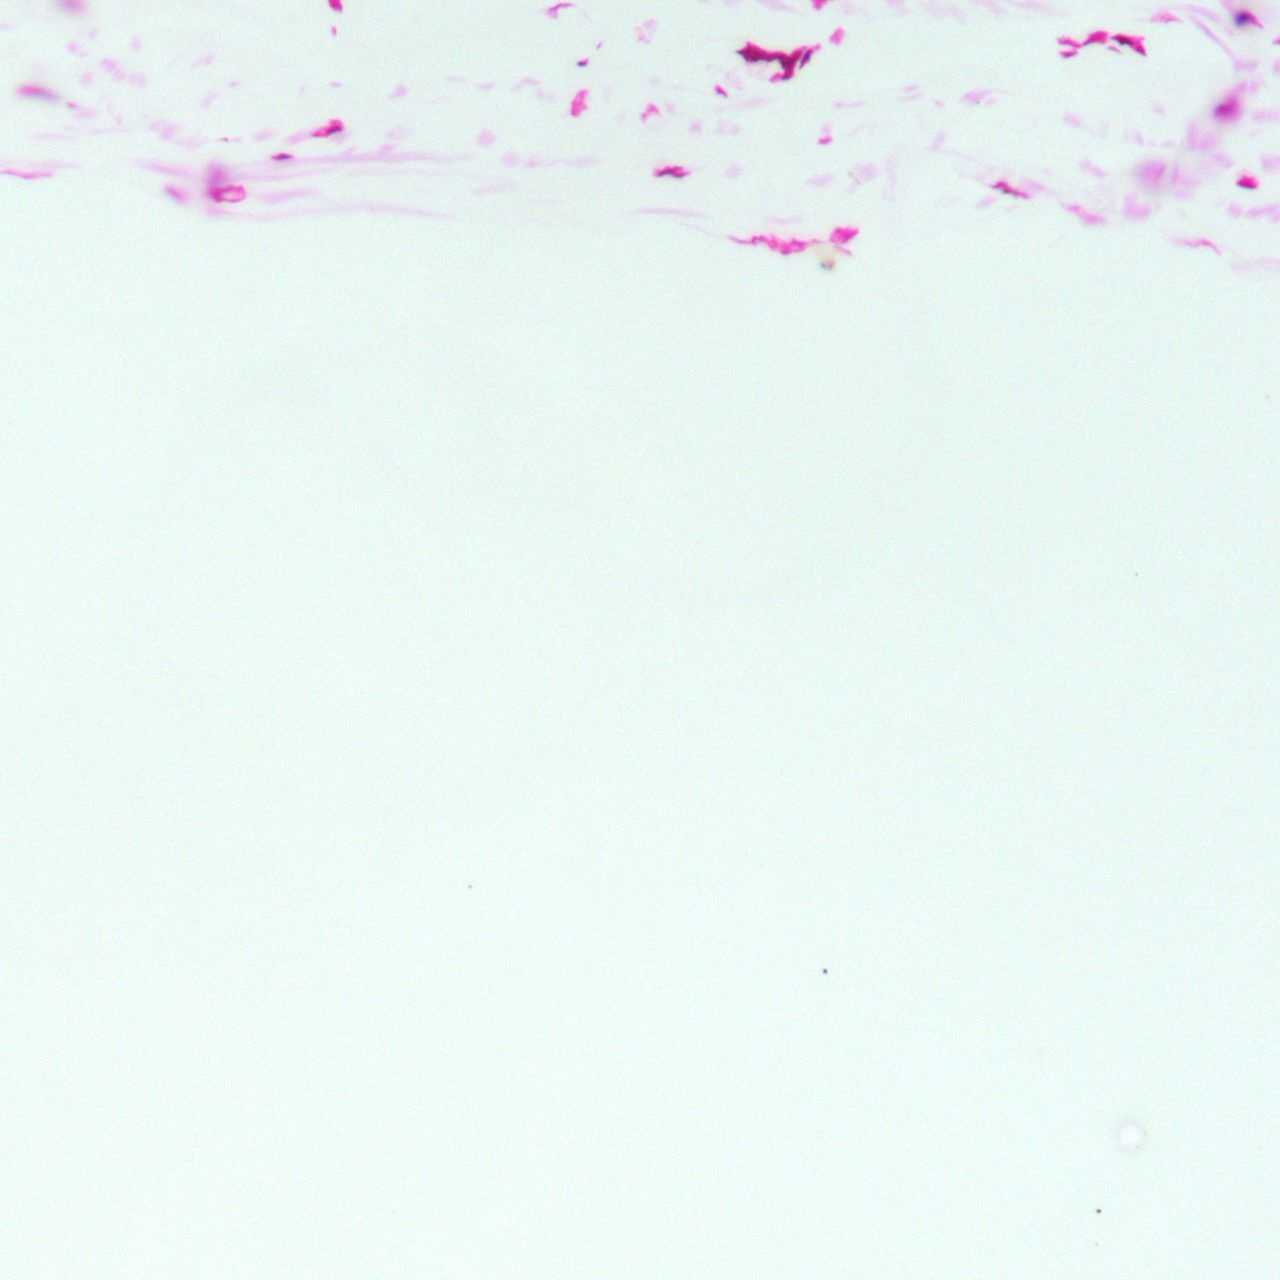dust: (826, 260, 834, 269), (819, 261, 824, 269), (822, 967, 828, 973), (1096, 1208, 1100, 1213)
nucleus-FG: (737, 43, 778, 62), (1114, 31, 1144, 56), (991, 180, 1024, 199), (313, 122, 342, 140), (1082, 28, 1108, 48), (212, 185, 238, 200), (655, 166, 687, 178), (780, 51, 798, 68), (799, 47, 813, 68), (1057, 36, 1081, 47), (843, 229, 860, 244), (548, 1, 575, 10), (714, 85, 728, 100), (271, 153, 292, 161), (1236, 183, 1258, 189), (779, 246, 794, 254), (1060, 50, 1077, 57), (575, 60, 587, 67), (795, 240, 806, 247)
